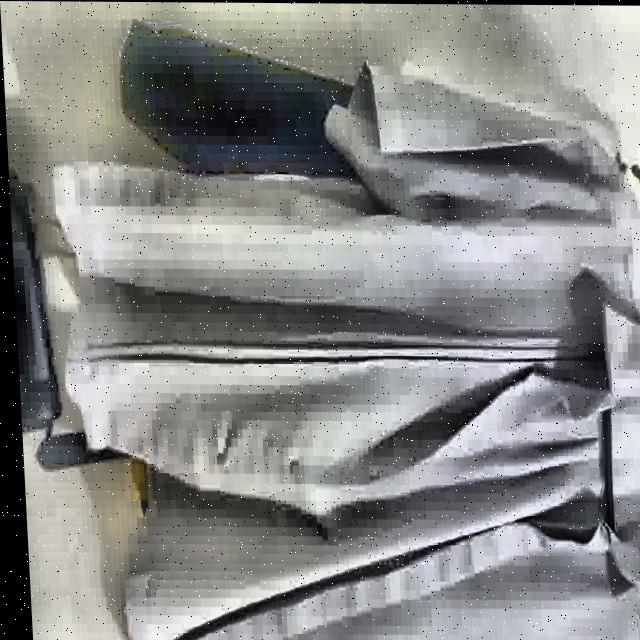clothes: (42, 58, 640, 640)
